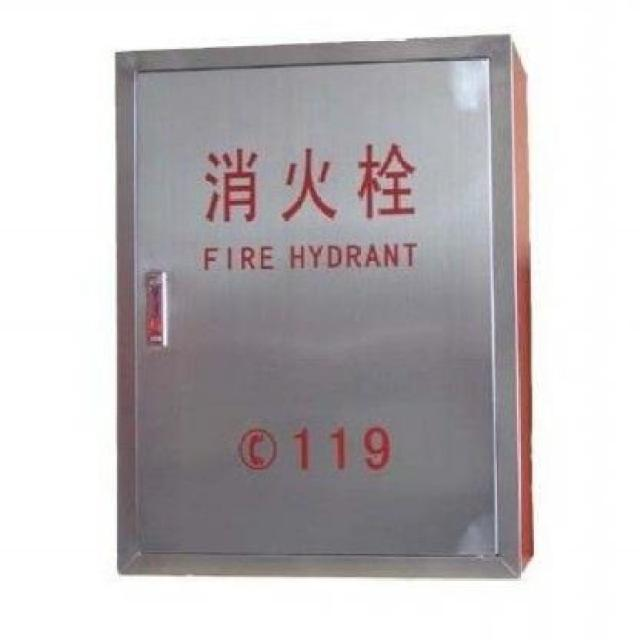firehydrant: (110, 29, 538, 585)
